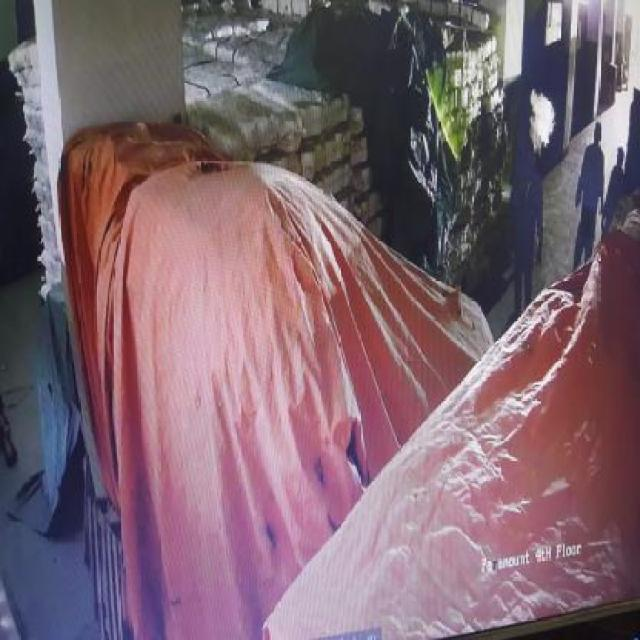fire: (528, 80, 556, 148)
